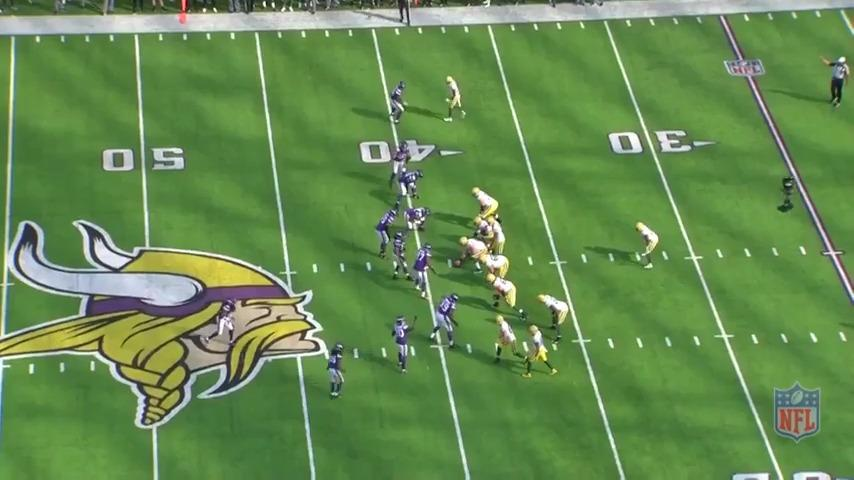player: (519, 321, 559, 380), (489, 313, 526, 373), (201, 295, 239, 351), (429, 291, 462, 348), (539, 292, 575, 343), (390, 314, 415, 379), (409, 242, 436, 302), (485, 273, 522, 316), (442, 73, 472, 126), (635, 219, 665, 271), (392, 166, 423, 211), (324, 342, 346, 403), (454, 235, 491, 270), (470, 185, 501, 225), (387, 140, 412, 189), (375, 208, 398, 260), (389, 229, 411, 282), (477, 251, 513, 282), (386, 79, 408, 129), (399, 206, 432, 235), (473, 212, 500, 246), (483, 218, 507, 256)
ref: (828, 53, 852, 111), (392, 0, 419, 29)
